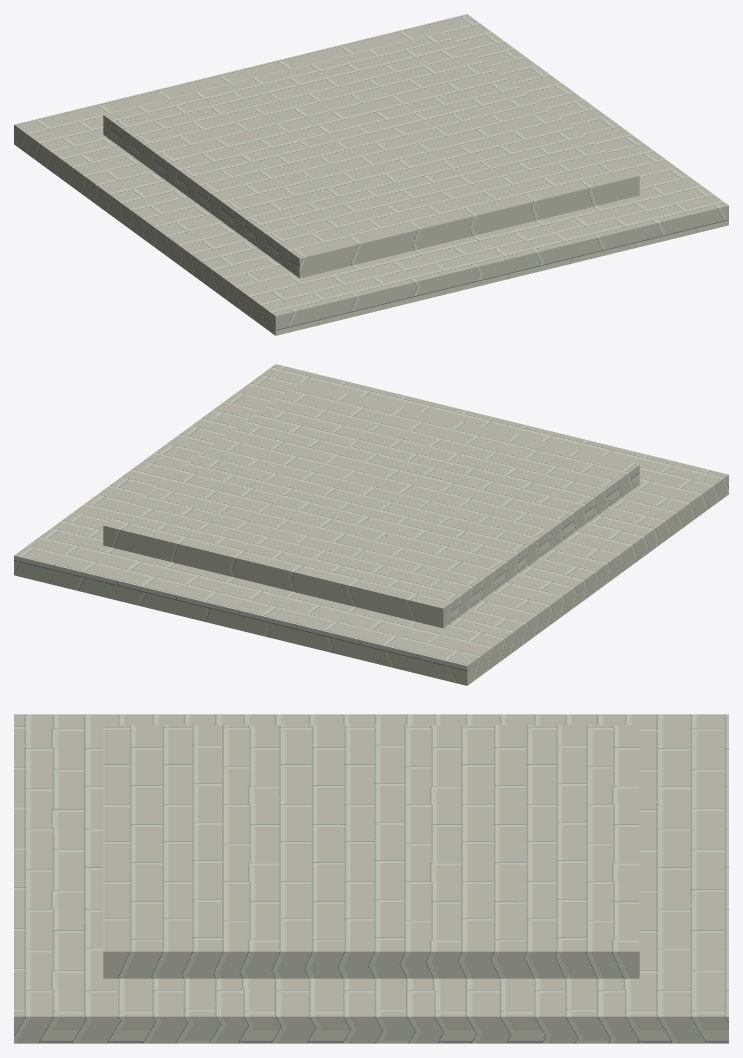
File: platform.fbx
3 views of the same model, one above another, from view 1: azimuth 30°, elevation 25°; view 2: azimuth 150°, elevation 25°; view 3: azimuth 270°, elevation 25° (orthographic). The views are drawn at different scales.
Visible parts, largest first — view 1: Cube; view 2: Cube; view 3: Cube.
Boxes of the visible parts, bbox=[...] form: Cube: bbox=[14, 14, 728, 335]; Cube: bbox=[14, 364, 728, 685]; Cube: bbox=[14, 714, 728, 1043].
Bounding box in the file's own units: 600 × 50 × 600.
Materials: 1 (1 with a texture image).
